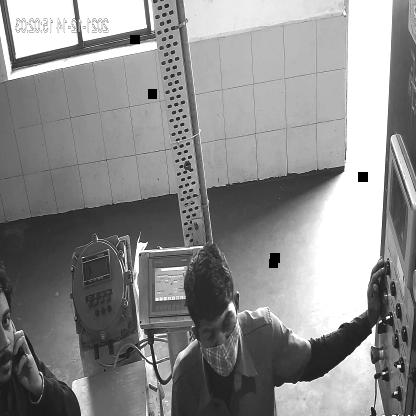no_goggles: (198, 307, 237, 347)
